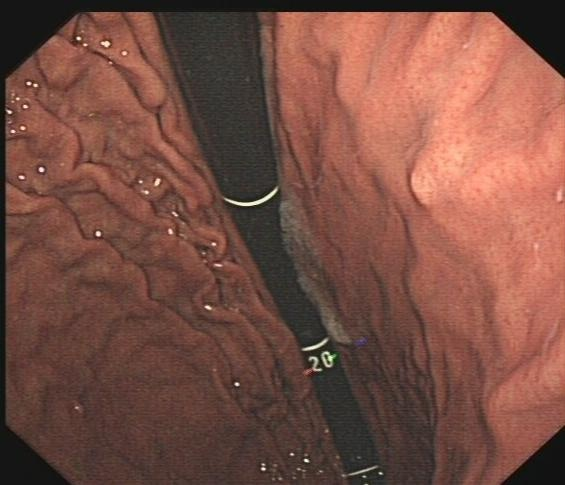Polyp: (401, 155, 452, 215)
